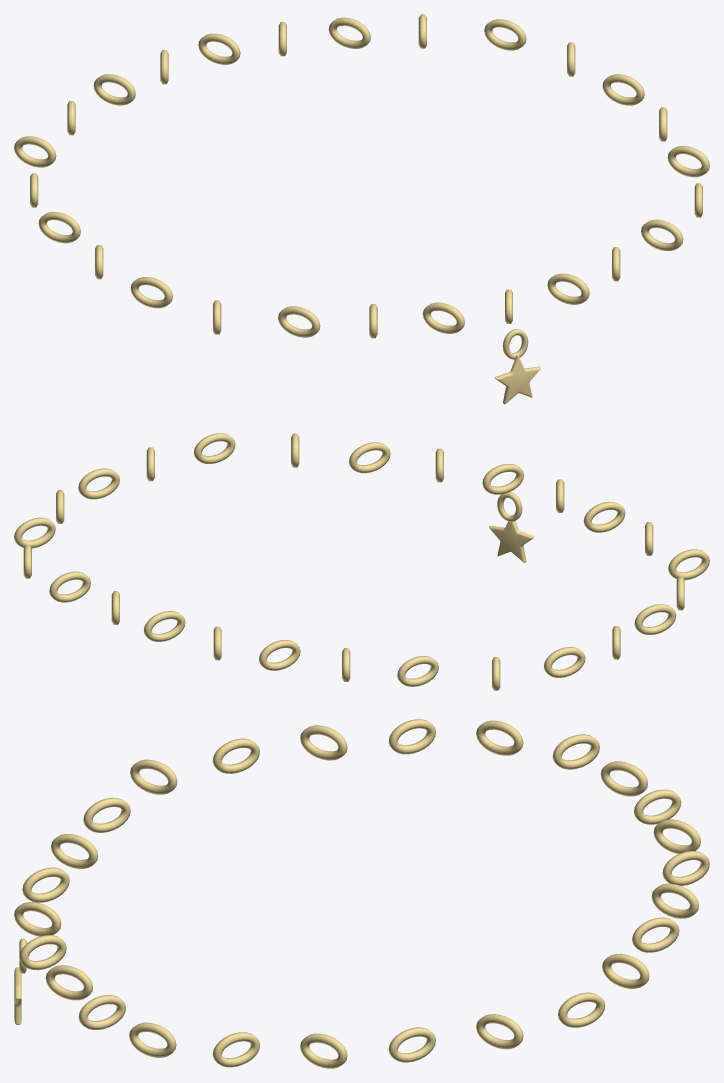
File: restart_chain_gold_bear.glb
The picture shows the model from 3 angles, top to bottom: view 1: azimuth 30°, elevation 25°; view 2: azimuth 150°, elevation 25°; view 3: azimuth 270°, elevation 25°; orthographic projection. The views are drawn at different scales.
Parts seen in each view (by area): view 1: Estrella.001, Eslabón.027, Eslabón.033, Eslabón.039, Eslabón.049, Eslabón.035, Eslabón.037, Eslabón.043, Eslabón.041, Eslabón.051, Eslabón.047, Eslabón.031 (+2 smaller); view 2: Estrella.001, Eslabón.032, Eslabón.028, Eslabón.042, Eslabón.030, Eslabón.036, Eslabón.044, Eslabón.050, Eslabón.026, Eslabón.040, Eslabón.046, Eslabón.038 (+3 smaller); view 3: Eslabón.028, Eslabón.029, Eslabón.031, Eslabón.037, Eslabón.045, Eslabón.046, Eslabón.047, Eslabón.048, Eslabón.051, Eslabón.033, Eslabón.043, Eslabón.044 (+14 smaller).
Part boxes in pixels (bbox=[...]): Estrella.001: bbox=[494, 355, 540, 404]; Eslabón.027: bbox=[547, 273, 589, 304]; Eslabón.033: bbox=[602, 74, 644, 105]; Eslabón.039: bbox=[198, 33, 240, 64]; Eslabón.049: bbox=[278, 306, 320, 337]; Eslabón.035: bbox=[484, 19, 526, 50]; Eslabón.037: bbox=[328, 17, 370, 48]; Eslabón.043: bbox=[14, 136, 56, 167]; Eslabón.041: bbox=[93, 74, 135, 105]; Eslabón.051: bbox=[422, 302, 464, 333]; Eslabón.047: bbox=[130, 277, 172, 308]; Eslabón.031: bbox=[667, 146, 709, 177]; Estrella.001: bbox=[489, 514, 534, 562]; Eslabón.032: bbox=[78, 468, 119, 499]; Eslabón.028: bbox=[349, 442, 390, 473]; Eslabón.042: bbox=[397, 656, 438, 686]; Eslabón.030: bbox=[193, 433, 235, 463]; Eslabón.036: bbox=[49, 571, 90, 602]; Eslabón.044: bbox=[543, 647, 585, 677]; Eslabón.050: bbox=[583, 501, 625, 532]; Eslabón.026: bbox=[482, 464, 523, 494]; Eslabón.040: bbox=[259, 640, 300, 670]; Eslabón.046: bbox=[634, 604, 676, 634]; Eslabón.038: bbox=[143, 611, 185, 641]; Eslabón.028: bbox=[45, 965, 92, 1000]; Eslabón.029: bbox=[78, 995, 125, 1029]; Eslabón.031: bbox=[212, 1032, 259, 1067]; Eslabón.037: bbox=[632, 917, 679, 952]; Eslabón.045: bbox=[388, 719, 435, 754]; Eslabón.046: bbox=[300, 725, 347, 760]; Eslabón.047: bbox=[212, 738, 259, 773]; Eslabón.048: bbox=[130, 759, 177, 794]; Eslabón.051: bbox=[22, 867, 69, 902]; Eslabón.033: bbox=[388, 1027, 435, 1062]; Eslabón.043: bbox=[552, 734, 599, 769]; Eslabón.044: bbox=[476, 720, 523, 755].
Size of the model in its own units: 0.6204 by 0.1488 by 0.5687.
